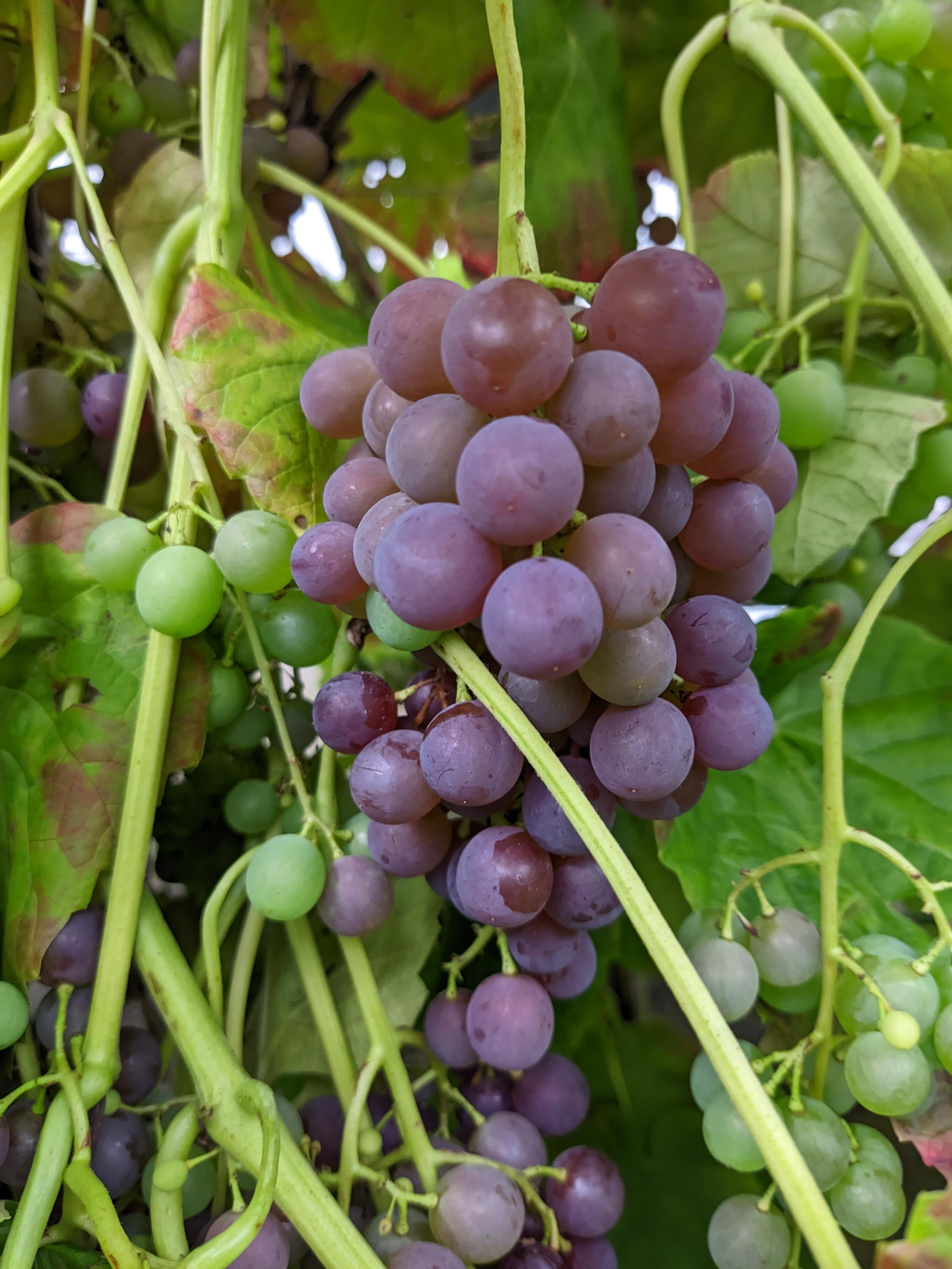Grape Unripe: (296, 246, 785, 1136), (75, 500, 414, 921), (690, 870, 952, 1269), (201, 1095, 631, 1269), (0, 814, 157, 1236), (26, 64, 333, 233), (5, 354, 167, 485)
